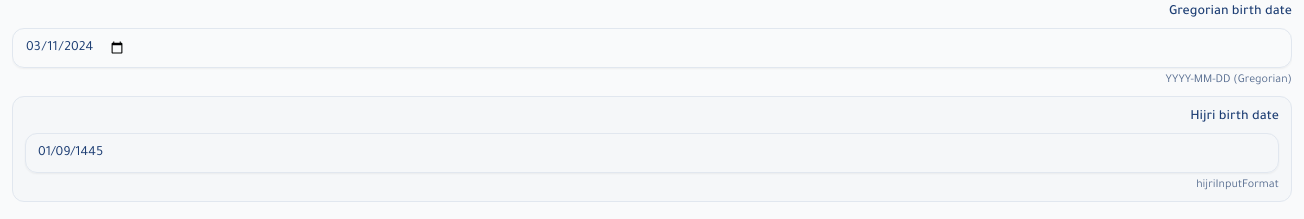
it: TeacherBirthDate shared field and display › last edited Gregorian date recalculates the Hijri draft
Replace the text in the field labelled "Hijri birth date" with "24/09/1420" at coordinates (652, 153), box [25,133,1279,173]
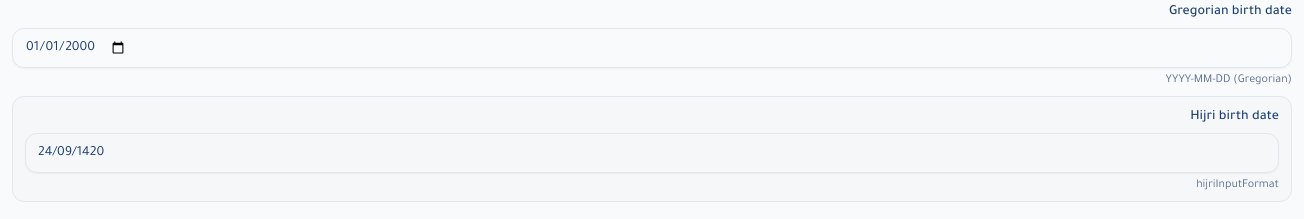
Result: the date field labelled "Gregorian birth date" holds "2000-01-01"
Type "2024-03-11" into the date field labelled "Gregorian birth date".
click(652, 48); type("2024-03-11")  # box [12,28,1292,68]
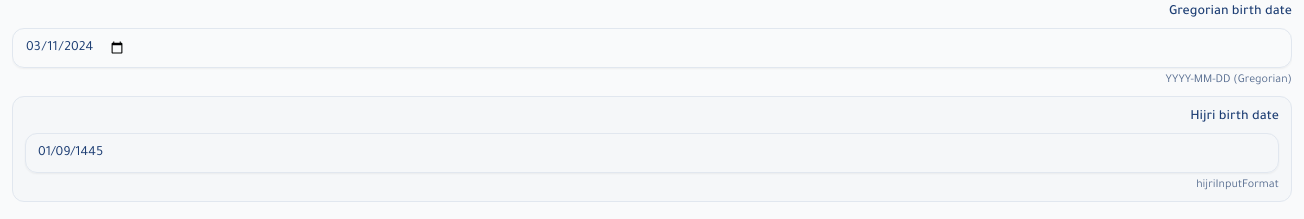
Result: the field labelled "Hijri birth date" holds "01/09/1445" at [25,133,1279,173]
